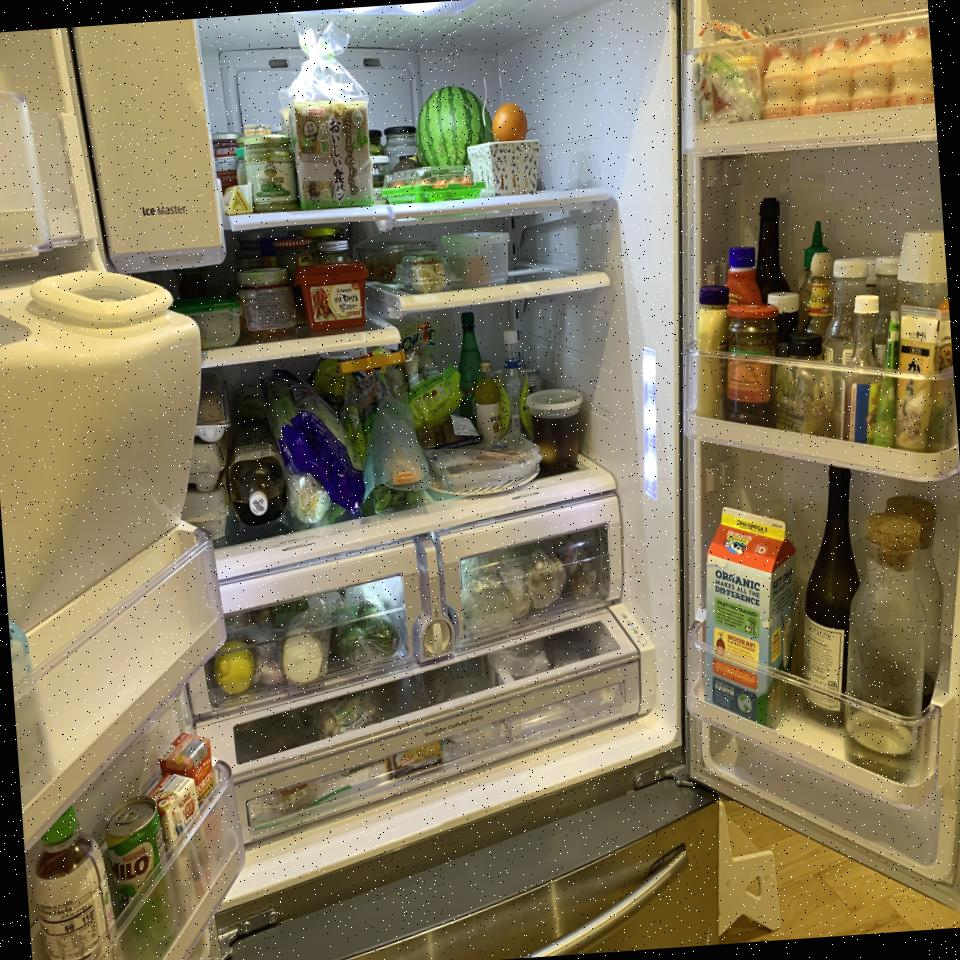Huevos: (191, 374, 234, 440), (183, 490, 232, 543), (187, 443, 229, 492)
Lechuga/Endivia: (266, 370, 351, 527)
Limón: (215, 642, 256, 694)
Tomate: (390, 170, 474, 192), (490, 102, 529, 142)
